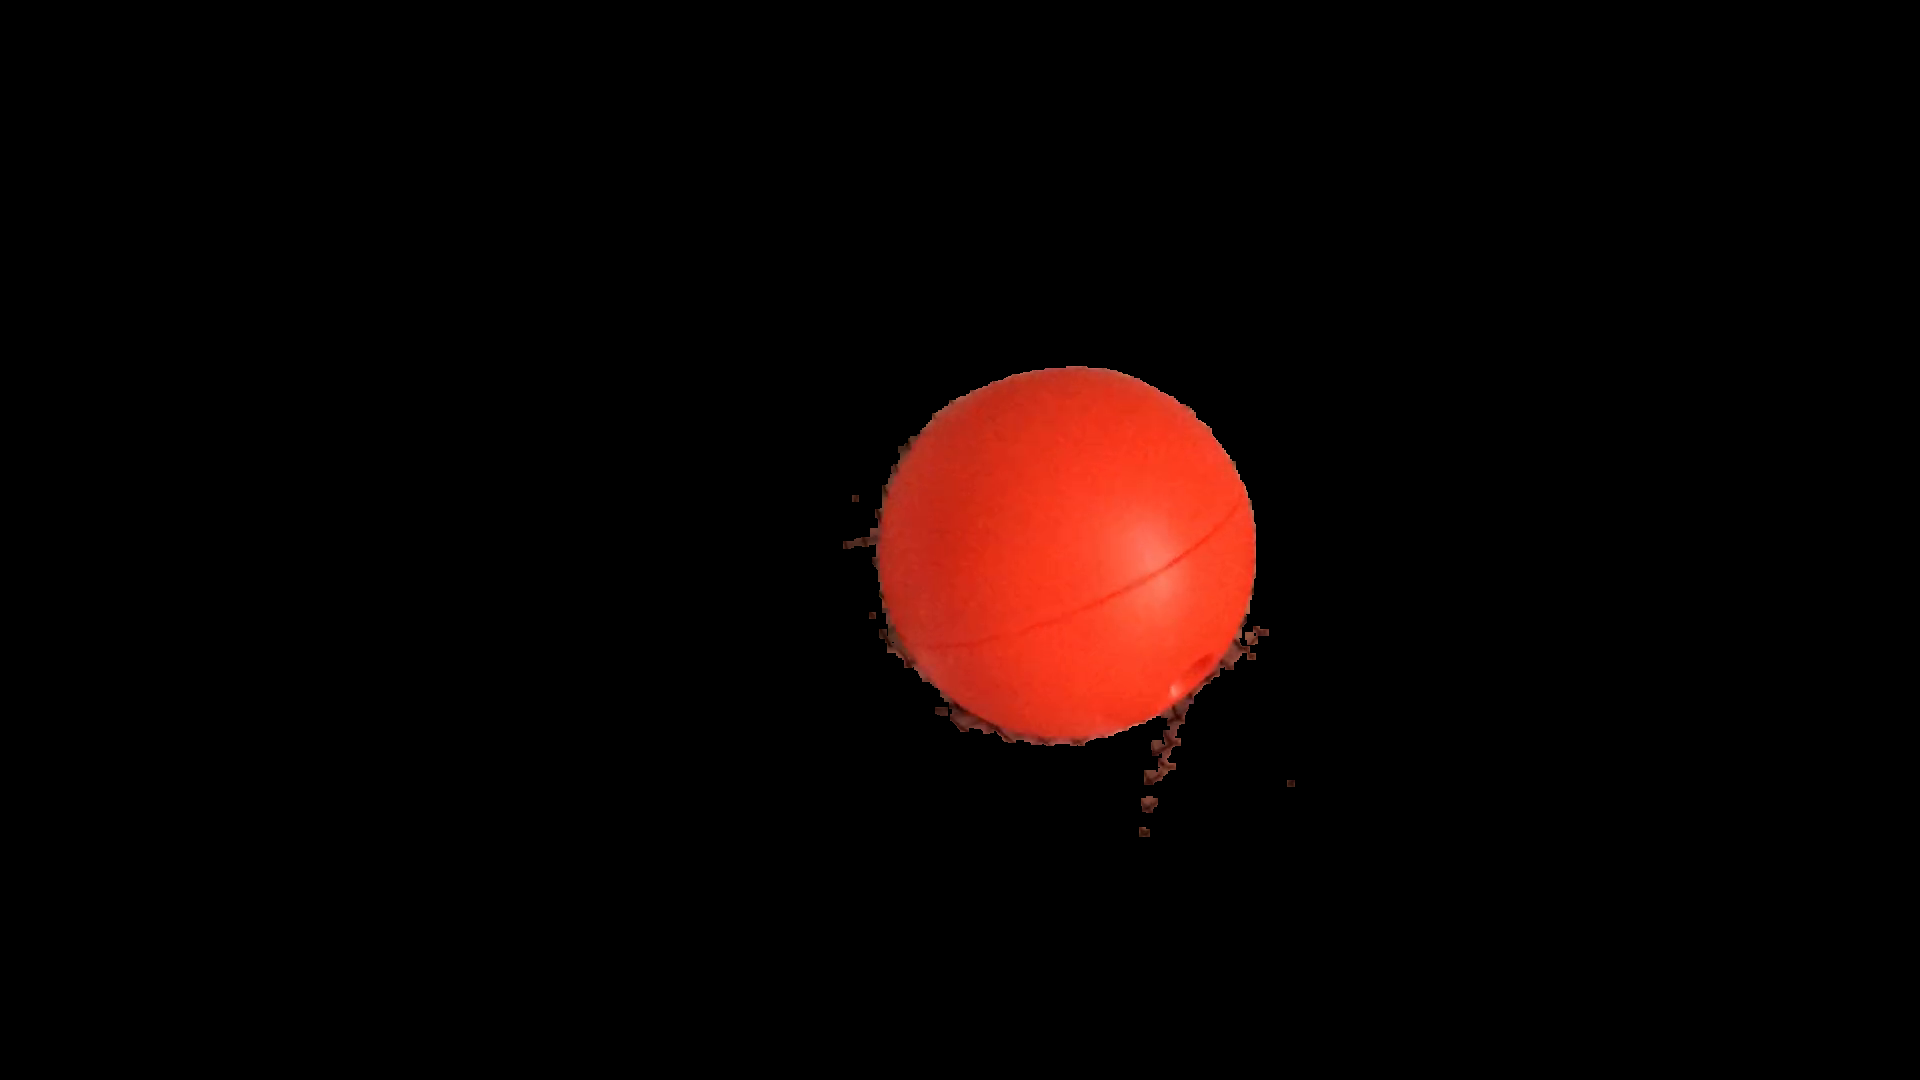Ball: (884, 365, 1251, 735)
